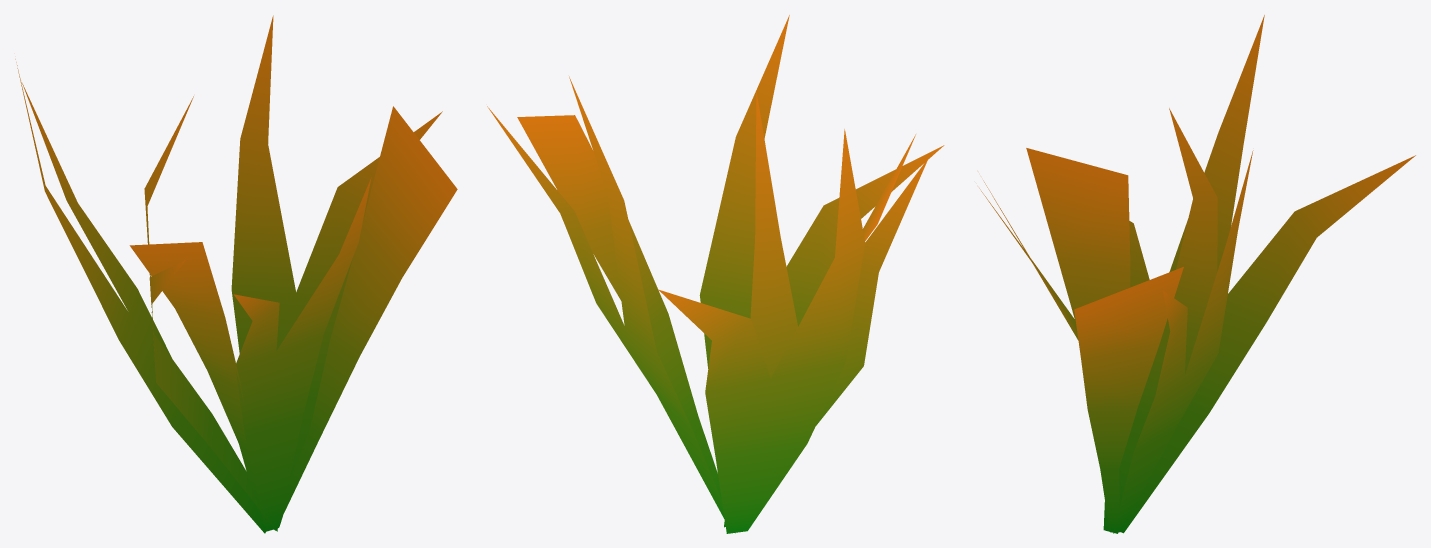
The model's file is Common Eelgrass_LOD2_Var4_sjglk.fbx.
The picture shows the model from 3 angles, left to right: view 1: azimuth 30°, elevation 25°; view 2: azimuth 150°, elevation 25°; view 3: azimuth 270°, elevation 25°; orthographic projection. The views are drawn at different scales.
Visible parts, largest first — view 1: _c9ab_Var4_LOD2; view 2: _c9ab_Var4_LOD2; view 3: _c9ab_Var4_LOD2.
Boxes of the visible parts, bbox=[...] form: _c9ab_Var4_LOD2: bbox=[15, 15, 457, 533]; _c9ab_Var4_LOD2: bbox=[487, 15, 944, 533]; _c9ab_Var4_LOD2: bbox=[979, 15, 1415, 533].
Size of the model in its own units: 55.8 by 65.7 by 60.53.
